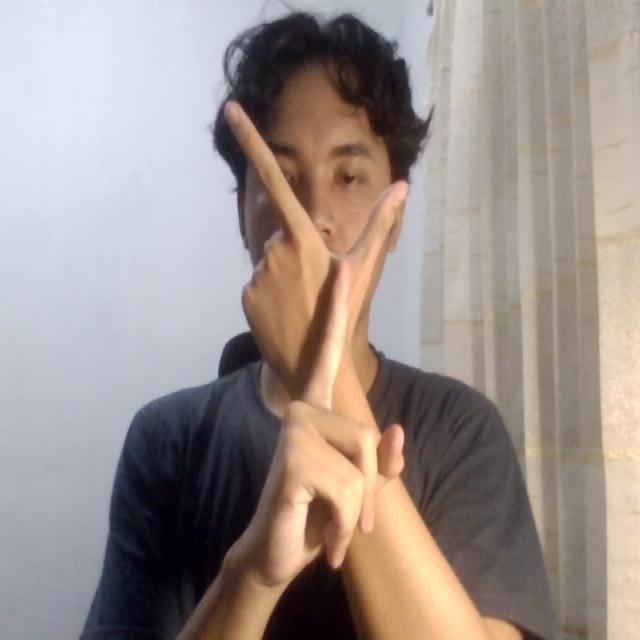No: (206, 89, 436, 580)
